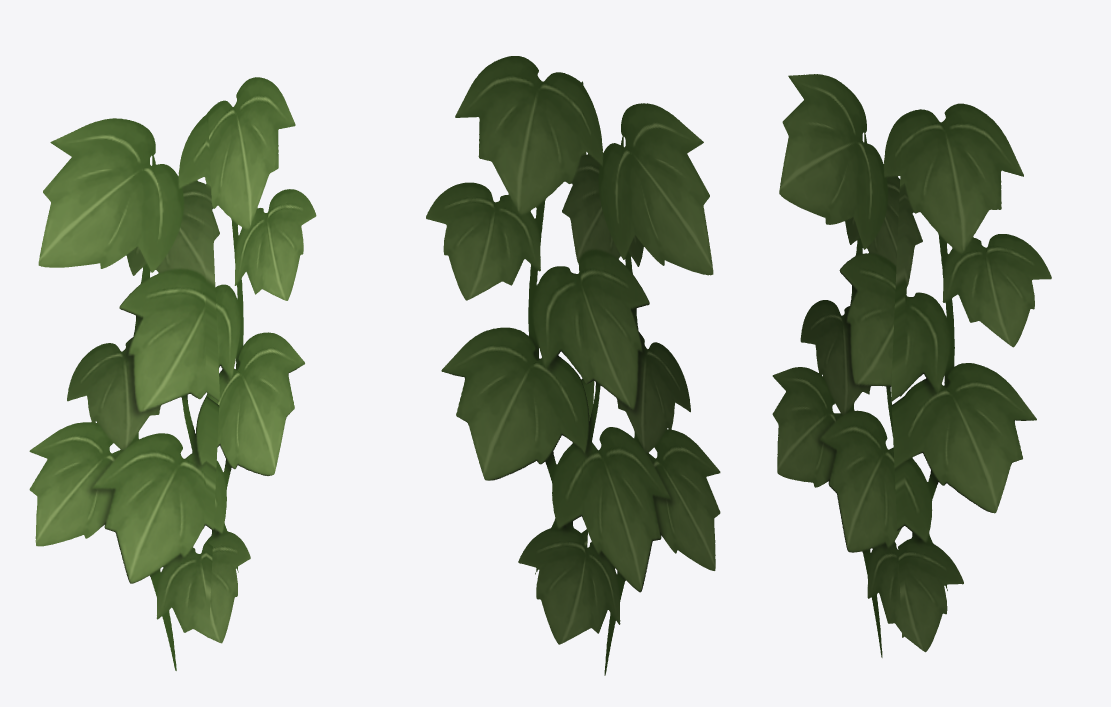
Rendered from Plant_04a.fbx.
3 renders of one model, left to right at view 1: azimuth 30°, elevation 25°; view 2: azimuth 150°, elevation 25°; view 3: azimuth 330°, elevation 25°, orthographic. The views are drawn at different scales.
Visible parts, largest first — view 1: Plant_04a; view 2: Plant_04a; view 3: Plant_04a.
Boxes of the visible parts, box(x1,y1,x2,y2) form: Plant_04a: box(29, 77, 316, 670); Plant_04a: box(426, 56, 720, 675); Plant_04a: box(772, 74, 1051, 657).
Bounding box in the file's own units: 85.01 × 150 × 16.59.
